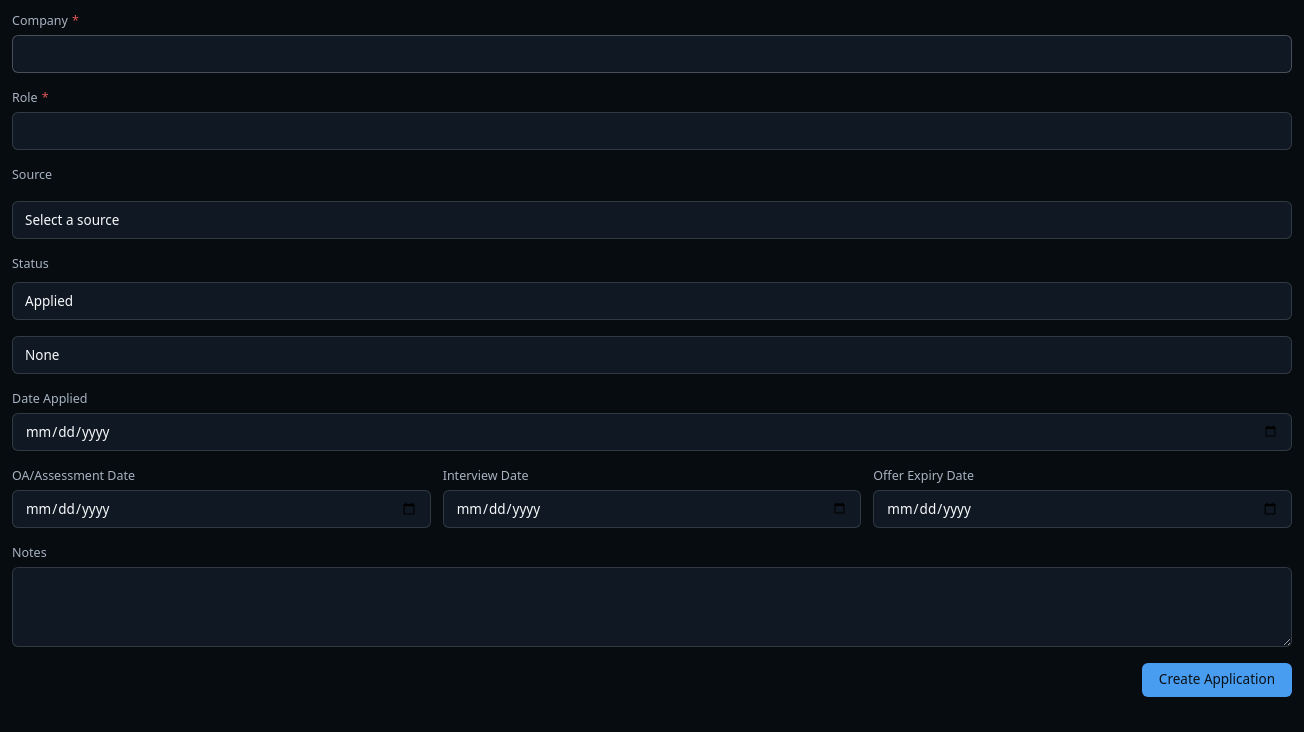
Test: AddApplicationForm › form validation feedback › shows VALIDATION error with field and message
Type "Acme Corp" into the field labelled "Company *". click: (652, 54)
box: top-left (12, 35), bottom-right (1292, 73)
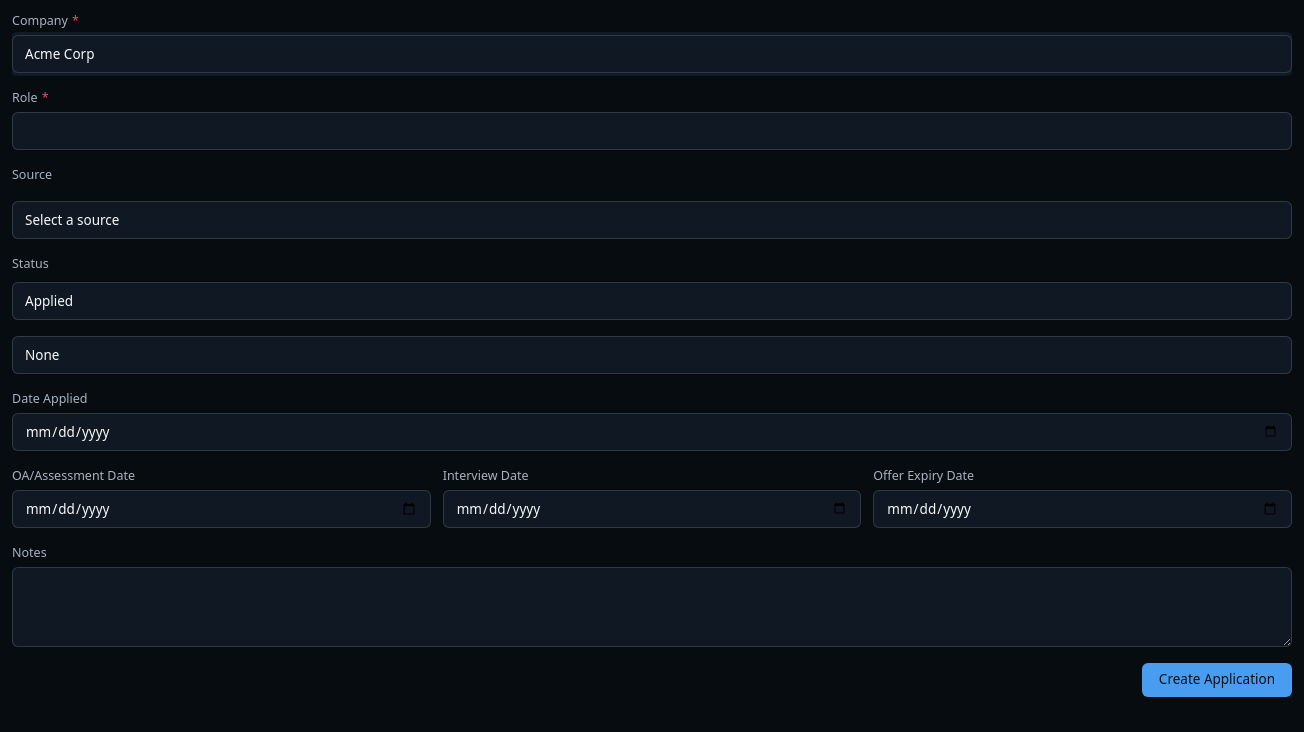
Type "Engineer" into the field labelled "Role *". click: (652, 131)
box: top-left (12, 112), bottom-right (1292, 150)
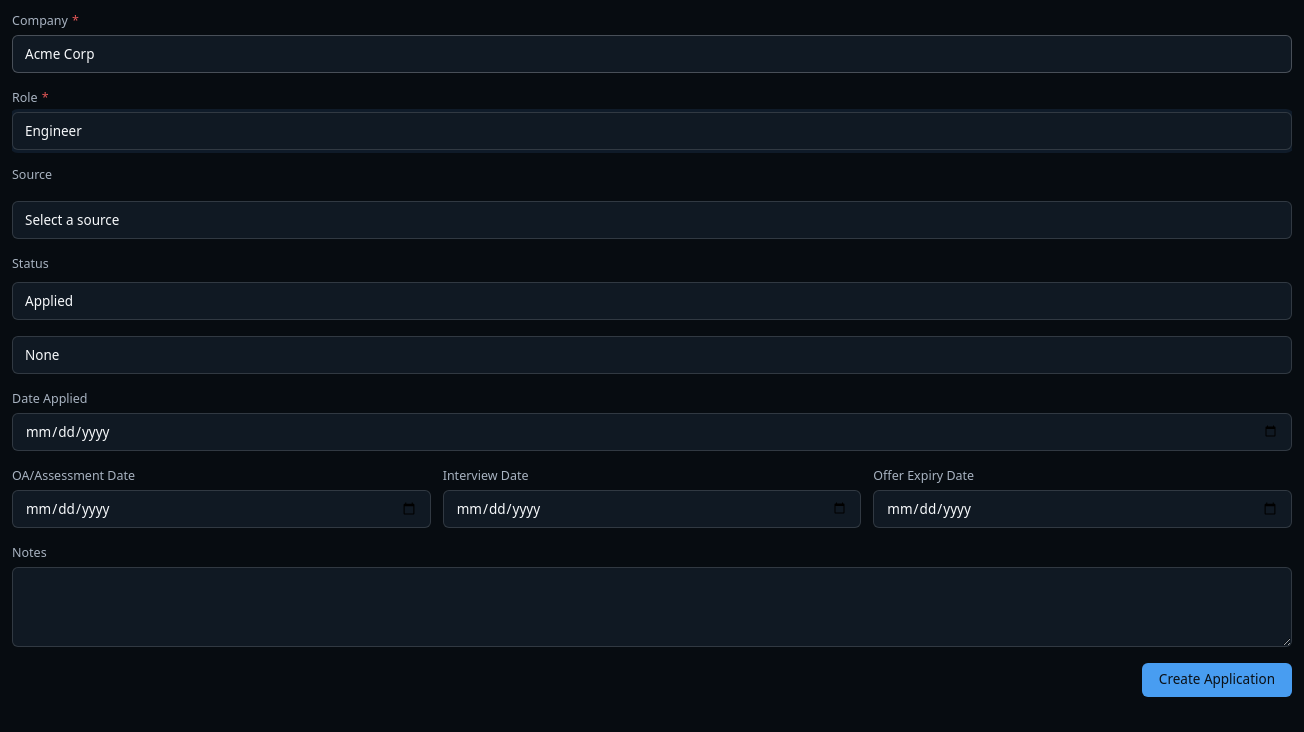
Click the button "Create Application". click: (1217, 680)
box: top-left (1142, 663), bottom-right (1292, 697)
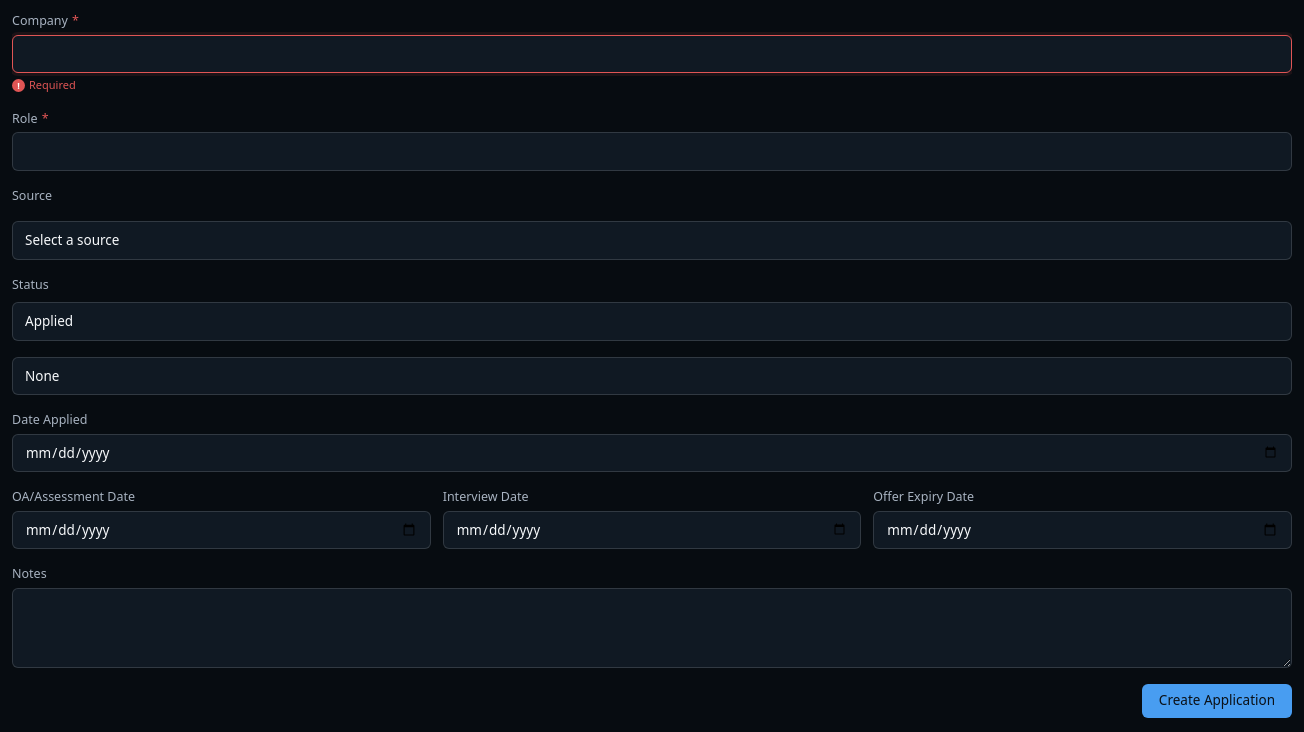
Expected: the text "Required" is shown, top-left (29, 77), bottom-right (76, 92)
